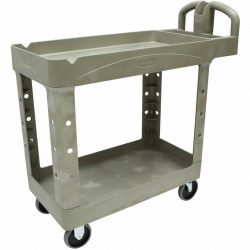Carts: (10, 1, 241, 248)
